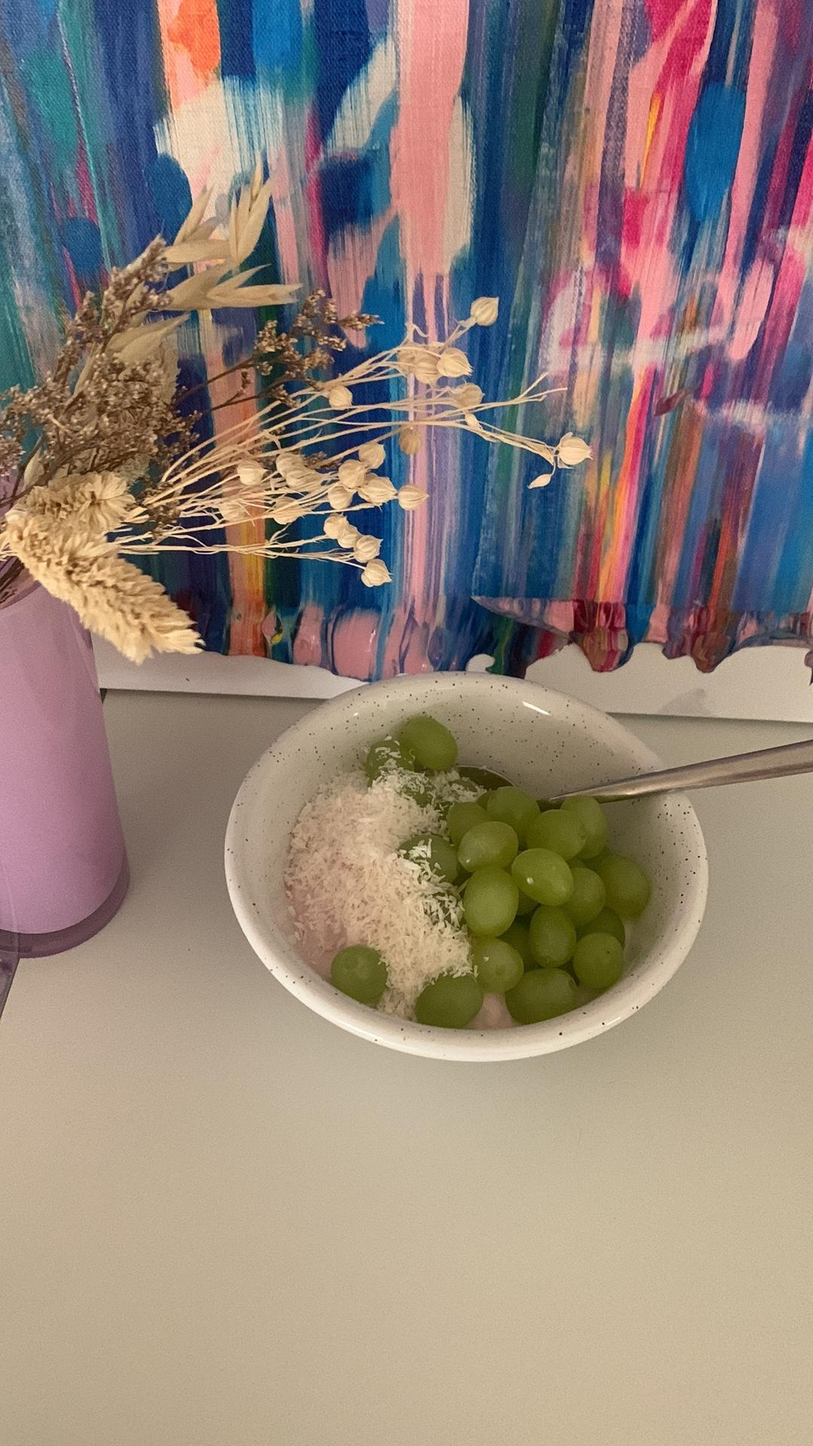grape: (408, 971, 484, 1027), (461, 865, 518, 938), (505, 970, 575, 1024), (513, 848, 573, 906), (459, 935, 523, 989), (572, 932, 626, 990), (331, 943, 388, 997), (525, 811, 587, 859), (405, 719, 463, 770), (400, 834, 457, 884), (458, 820, 519, 866), (531, 905, 576, 967), (600, 854, 649, 908), (572, 795, 605, 858), (487, 785, 534, 829), (574, 871, 607, 929), (443, 802, 491, 835), (368, 737, 404, 780)
